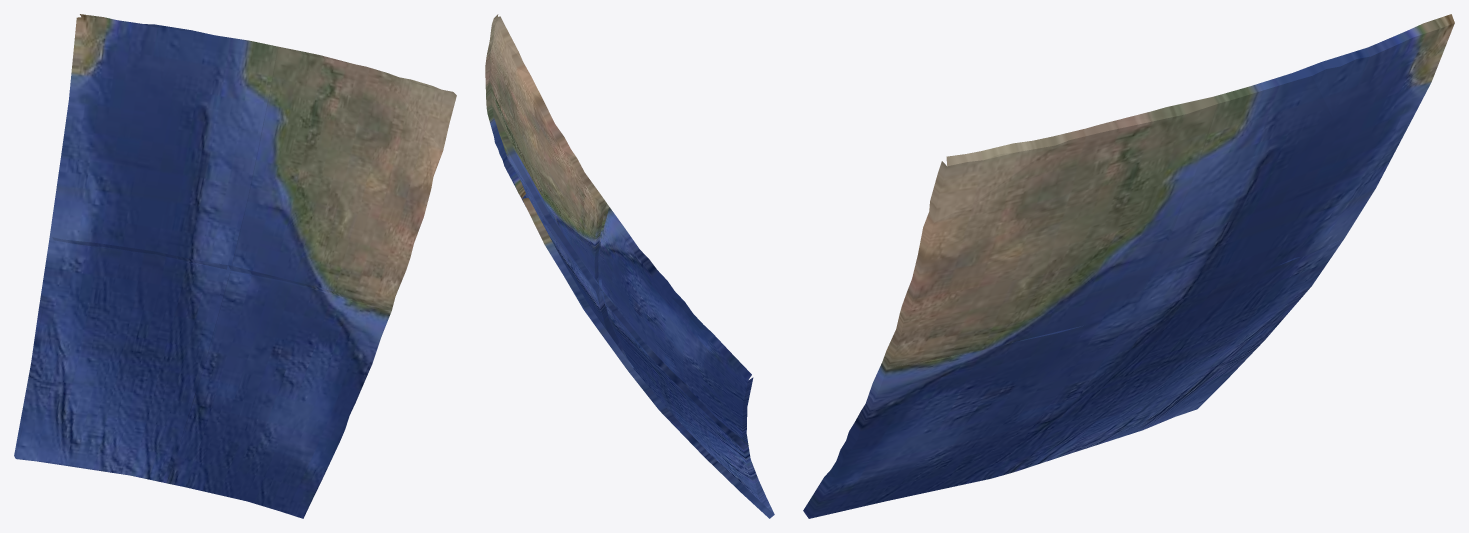
The picture shows the model from 3 angles, left to right: view 1: azimuth 30°, elevation 25°; view 2: azimuth 150°, elevation 25°; view 3: azimuth 270°, elevation 25°; orthographic projection. The views are drawn at different scales.
Bounding box in the file's own units: 2283623 × 2102797 × 2468047.
1 material, 1 textured.
